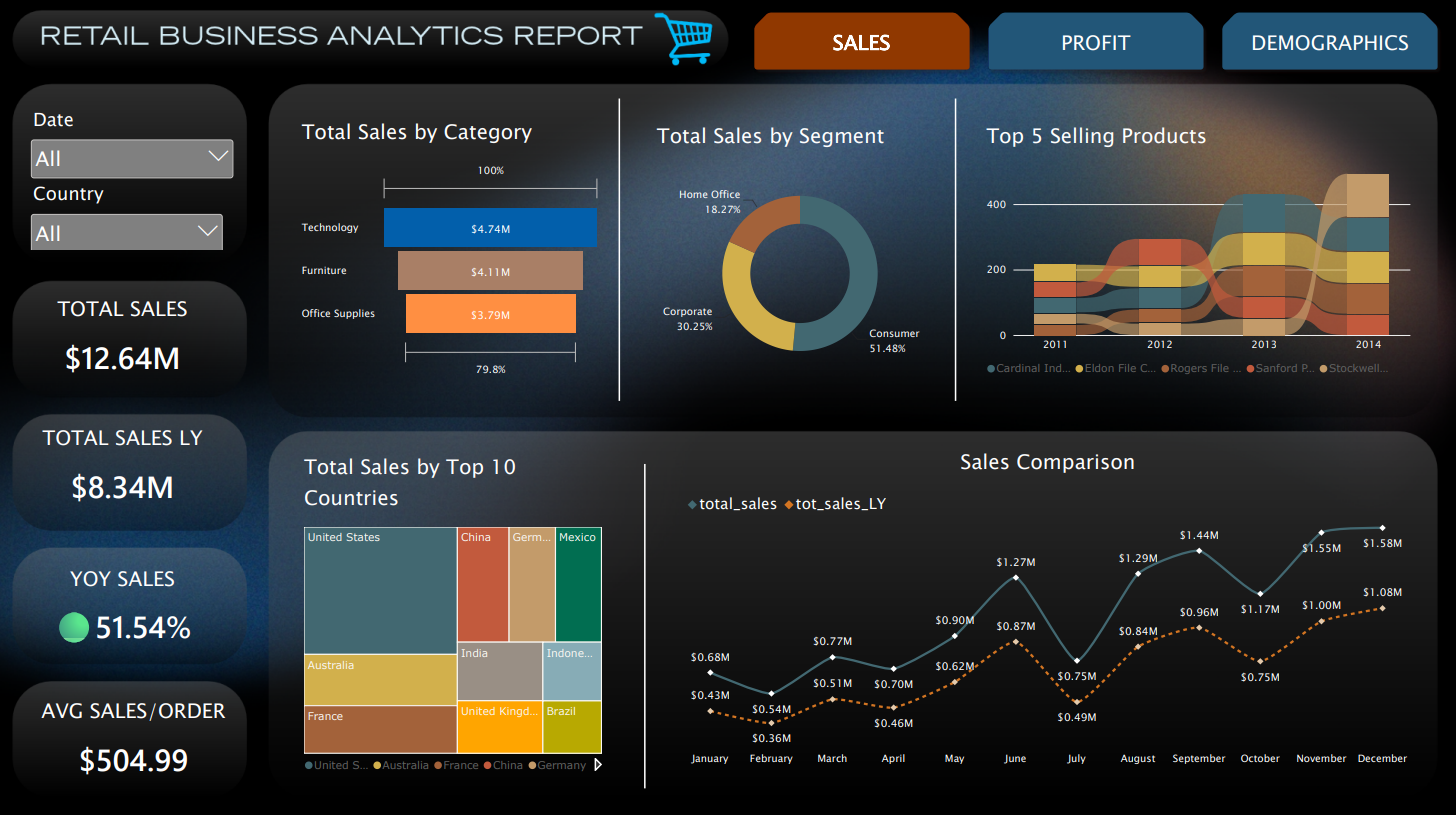

This screenshot's page, from the dashboard's own definition file:
{"tool":"powerbi","page":{"name":"SALES","canvas":[1920,1080],"ordinal":0},"visuals":[{"type":"pageNavigator","box":[985,10,917.5,92.5],"z":0},{"type":"card","title":"TOTAL SALES","fields":{"Values":["Calculated_Table.total_sales"]},"box":[27.5,375,271.1,136.8],"z":1000},{"type":"card","title":"AVG SALES/ORDER","fields":{"Values":["Calculated_Table.avg_sales_per_order"]},"box":[27.5,905,300,137.1],"z":2000},{"type":"card","title":"YOY SALES","fields":{"Values":["Calculated_Table.YoY_sales_growth%"]},"box":[27.5,730,271.1,136.8],"z":3000},{"type":"card","title":"TOTAL SALES LY","fields":{"Values":["Calculated_Table.tot_sales_LY"]},"box":[27.5,545,271.1,136.8],"z":4000},{"type":"slicer","fields":{"Values":["date_table.Date.Variation.Date Hierarchy.Year","date_table.Date.Variation.Date Hierarchy.Month"]},"box":[38,142,276,98],"z":5000},{"type":"slicer","fields":{"Values":["location_table.Country"]},"box":[38.1,240.5,261.9,90.5],"z":6000},{"type":"lineChart","title":"Sales Comparison","fields":{"Category":["date_table.Date.Variation.Date Hierarchy.Month"],"Y":["Calculated_Table.total_sales","Calculated_Table.tot_sales_LY"]},"box":[888,576,984,456],"z":7000},{"type":"treemap","title":"Total Sales by Top 10 Countries","fields":{"Group":["location_table.Country"],"Values":["Calculated_Table.total_sales"]},"box":[385.7,582.9,422.9,457.1],"z":8000},{"type":"donutChart","title":"Total Sales by Segment","fields":{"Category":["customer_table.Segment"],"Y":["Calculated_Table.total_sales"]},"box":[850,148.3,408.3,371.7],"z":9000},{"type":"funnel","title":"Total Sales by Category","fields":{"Category":["product_table.Category"],"Y":["Calculated_Table.total_sales"]},"box":[383.3,141.7,425,376.7],"z":10000},{"type":"shape","box":[816.7,613.3,66.7,426.7],"z":11000},{"type":"ribbonChart","title":"Top 5 Selling Products","fields":{"Category":["date_table.Date.Variation.Date Hierarchy.Year"],"Series":["product_table.Product Name"],"Y":["Calculated_Table.total_qty"]},"box":[1283.3,146.7,588.3,371.7],"z":12000},{"type":"shape","box":[783.3,131.7,66.7,398.3],"z":13000},{"type":"shape","box":[1225,131.7,66.7,398.3],"z":14000}]}

Visuals, with their boxes in screenshot pixels (x1, y1, x2, y2), scaled from the page's 1920x1080 canvas onto the 1456x815 screenshot:
pageNavigator: bbox=(747, 8, 1443, 77)
"TOTAL SALES" card: bbox=(21, 283, 226, 386)
"AVG SALES/ORDER" card: bbox=(21, 683, 248, 786)
"YOY SALES" card: bbox=(21, 551, 226, 654)
"TOTAL SALES LY" card: bbox=(21, 411, 226, 515)
slicer - date_table.Date.Variation.Date Hierarchy.Year x date_table.Date.Variation.Date Hierarchy.Month: bbox=(29, 107, 238, 181)
slicer - location_table.Country: bbox=(29, 181, 228, 250)
"Sales Comparison" lineChart: bbox=(673, 435, 1420, 779)
"Total Sales by Top 10 Countries" treemap: bbox=(292, 440, 613, 785)
"Total Sales by Segment" donutChart: bbox=(645, 112, 954, 392)
"Total Sales by Category" funnel: bbox=(291, 107, 613, 391)
shape: bbox=(619, 463, 670, 785)
"Top 5 Selling Products" ribbonChart: bbox=(973, 111, 1419, 391)
shape: bbox=(594, 99, 645, 400)
shape: bbox=(929, 99, 980, 400)
